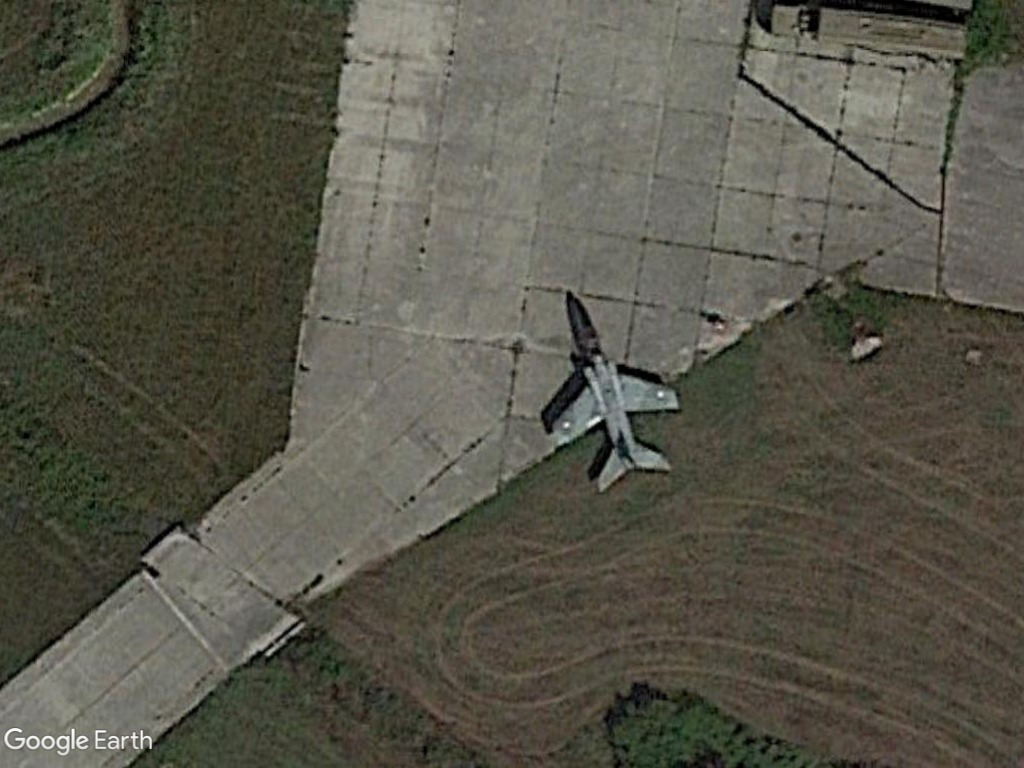fighter: (541, 293, 687, 503)
